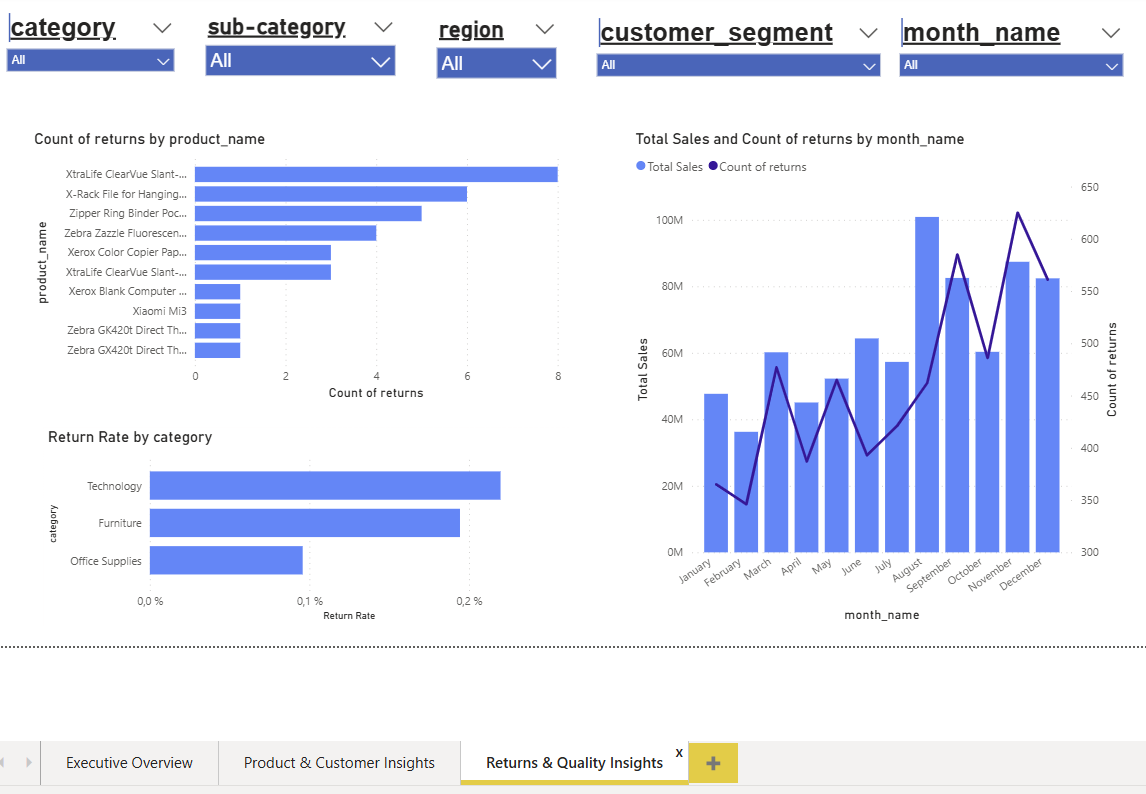

What the dashboard file says about the page in this screenshot:
{"tool":"powerbi","page":{"name":"Returns & Quality Insights","canvas":[1280,720],"ordinal":2},"visuals":[{"type":"barChart","fields":{"Y":["CountNonNull(sales_clean.returns)"],"Category":["sales_clean.product_name"]},"box":[42.9,149.3,593,304.1],"z":0},{"type":"slicer","fields":{"Values":["sales_clean.category"]},"box":[6.9,15.2,206,80.2],"z":1000},{"type":"slicer","fields":{"Values":["sales_clean.sub-category"]},"box":[226.7,15.2,230.8,80.2],"z":2000},{"type":"slicer","fields":{"Values":["sales_clean.region"]},"box":[482.4,18,153.4,80.2],"z":3000},{"type":"slicer","fields":{"Values":["sales_clean.customer_segment"]},"box":[659.4,20.7,334.5,84.3],"z":4000},{"type":"slicer","fields":{"Values":["sales_clean.month_name"]},"box":[993.9,20.7,268.2,74.6],"z":5000},{"type":"barChart","fields":{"Category":["sales_clean.category"],"Y":["sales_clean.Return Rate"]},"box":[58.1,478.3,581.9,219.8],"z":6000},{"type":"lineClusteredColumnComboChart","fields":{"Category":["sales_clean.month_name"],"Y":["sales_clean.Total Sales"],"Y2":["CountNonNull(sales_clean.returns)"]},"box":[707.7,149.3,544.6,548.8],"z":6001}]}

Visuals, with their boxes on the page's 1280x720 design canvas (x1, y1, x2, y2). These are canvas units, not pixel positions in the 1146x794 screenshot, which may show the page scaled, cropped or inside an application window:
barChart - CountNonNull(sales_clean.returns) x sales_clean.product_name: 43, 149, 636, 453
slicer - sales_clean.category: 7, 15, 213, 95
slicer - sales_clean.sub-category: 227, 15, 458, 95
slicer - sales_clean.region: 482, 18, 636, 98
slicer - sales_clean.customer_segment: 659, 21, 994, 105
slicer - sales_clean.month_name: 994, 21, 1262, 95
barChart - sales_clean.category x sales_clean.Return Rate: 58, 478, 640, 698
lineClusteredColumnComboChart - sales_clean.month_name x sales_clean.Total Sales: 708, 149, 1252, 698
